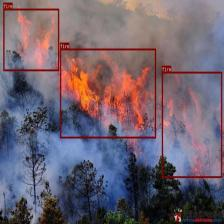fire: (60, 48, 156, 138), (162, 72, 222, 177), (3, 8, 59, 71)
